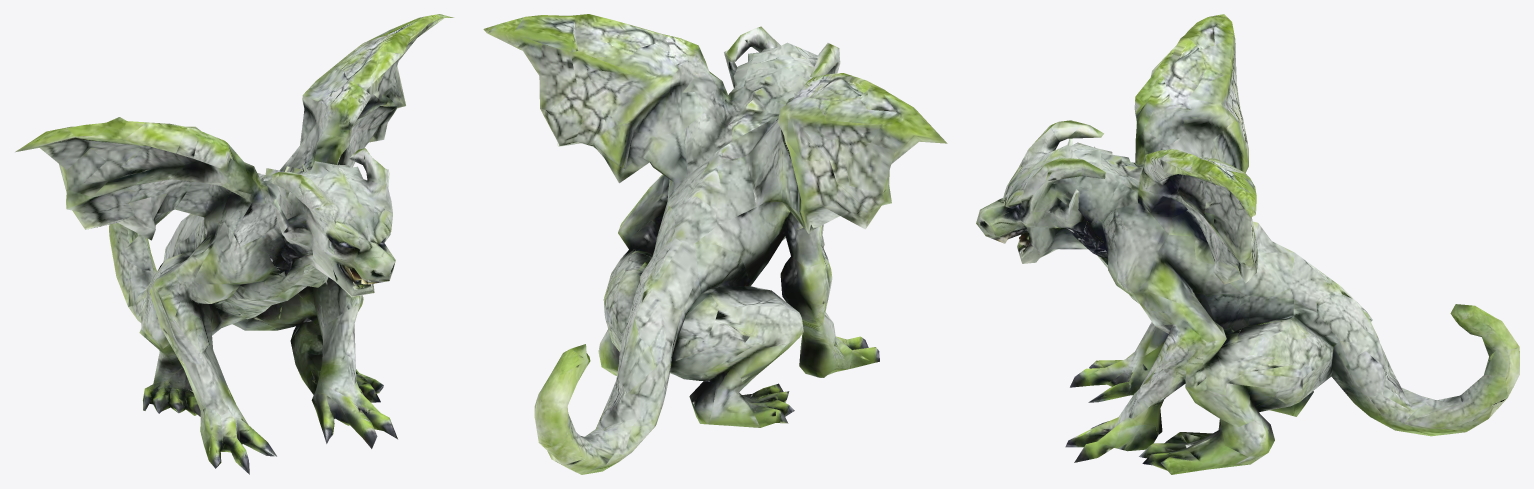
The model's file is prop-gargoyle.glb.
3 views of the same model, side by side, from view 1: azimuth 30°, elevation 25°; view 2: azimuth 150°, elevation 25°; view 3: azimuth 270°, elevation 25° (orthographic).
Size of the model in its own units: 6.88 by 4.98 by 7.27.
1 material, 1 textured.
